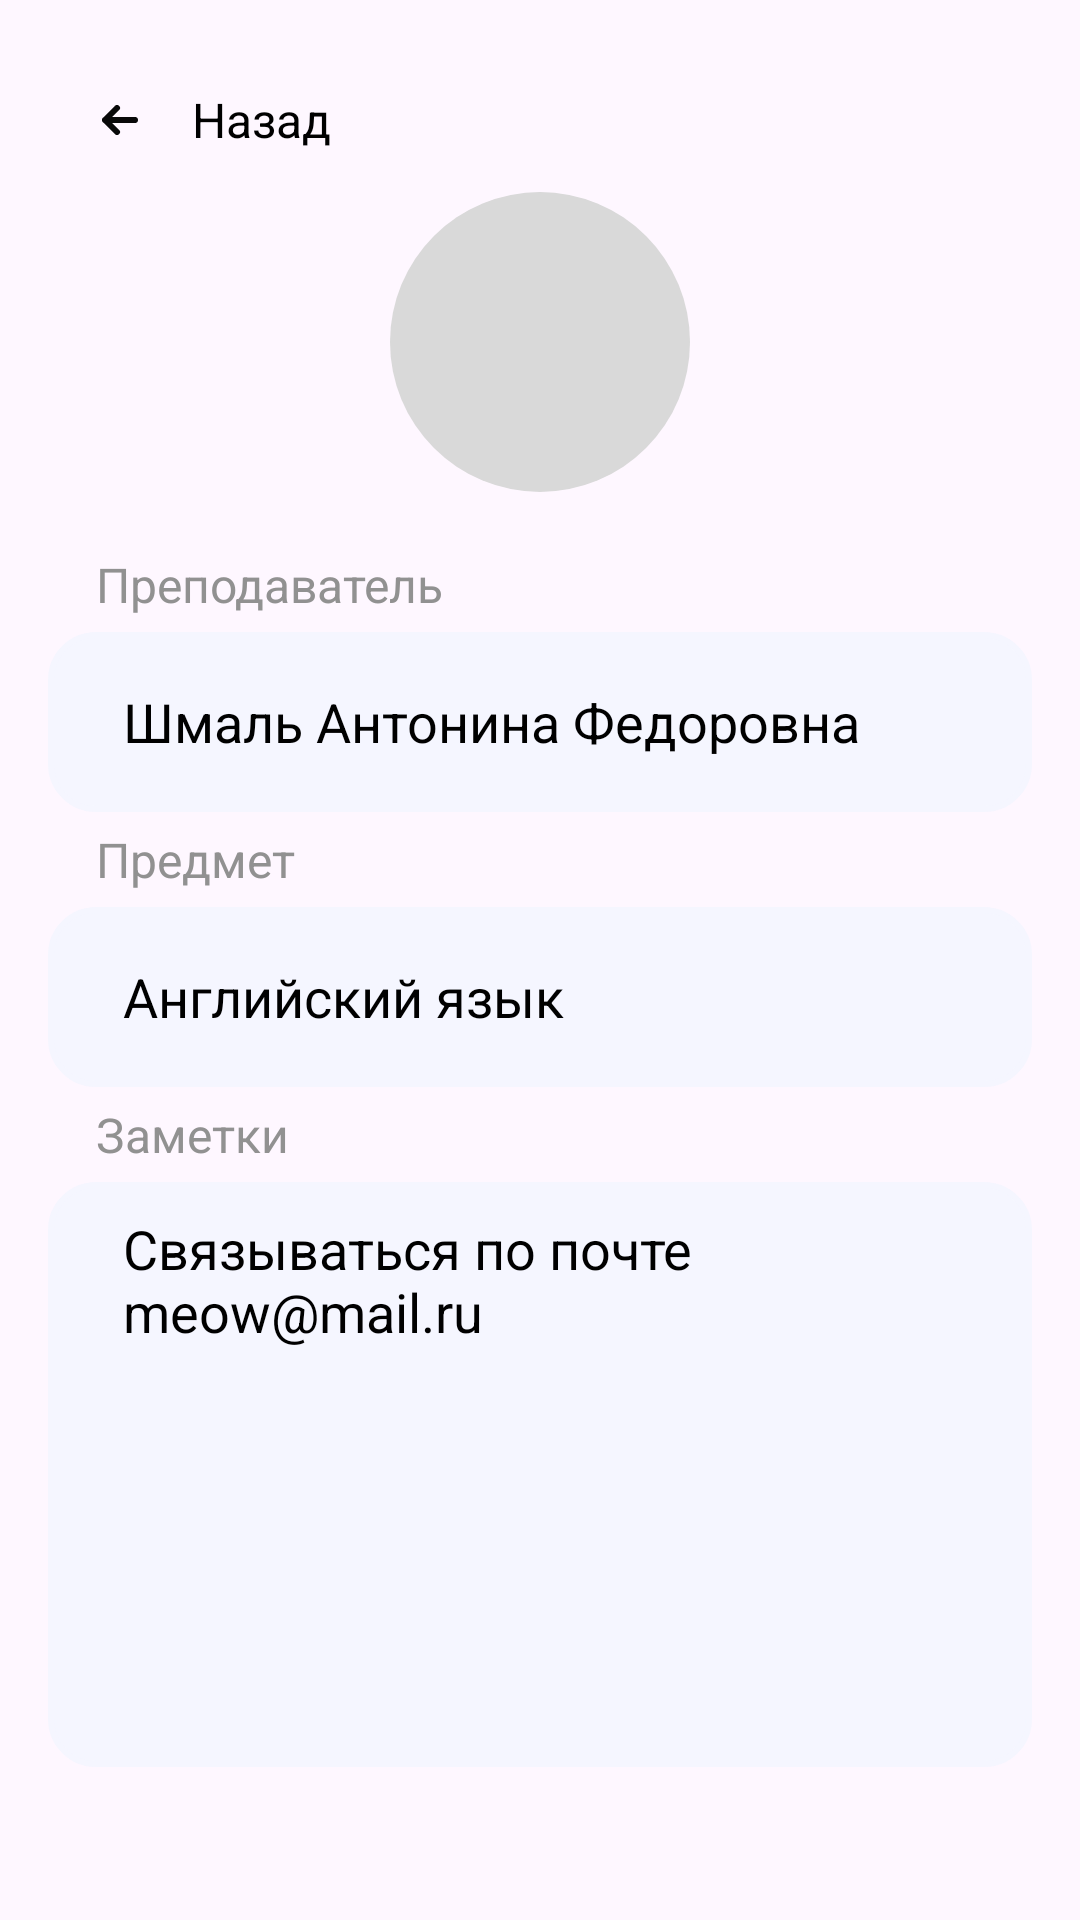

Named icons in this screenshot (1080px×1920px) and their centers, (x=x, y=y):
arrow: (x=120, y=120)
